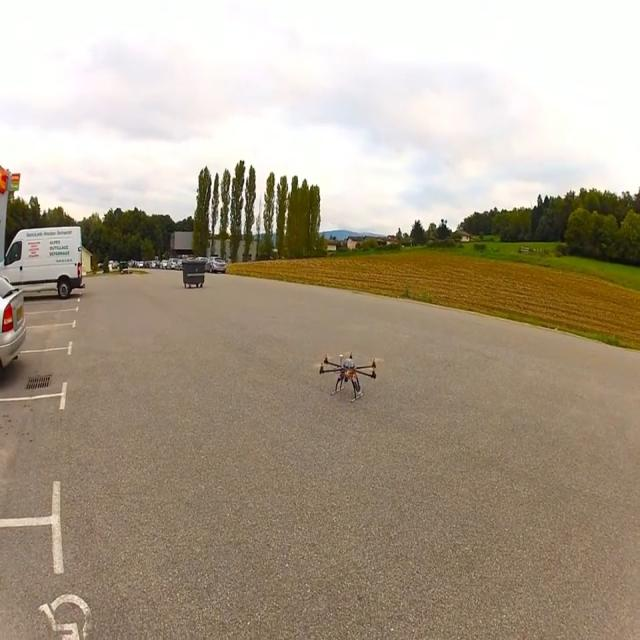drone: (318, 351, 378, 402)
